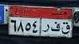4: (32, 20, 38, 35)
5: (25, 22, 31, 32)
6: (11, 18, 17, 33)
8: (17, 20, 24, 34)
faa: (51, 22, 61, 33)
qaaf: (62, 20, 71, 35)
raa: (42, 23, 50, 34)
